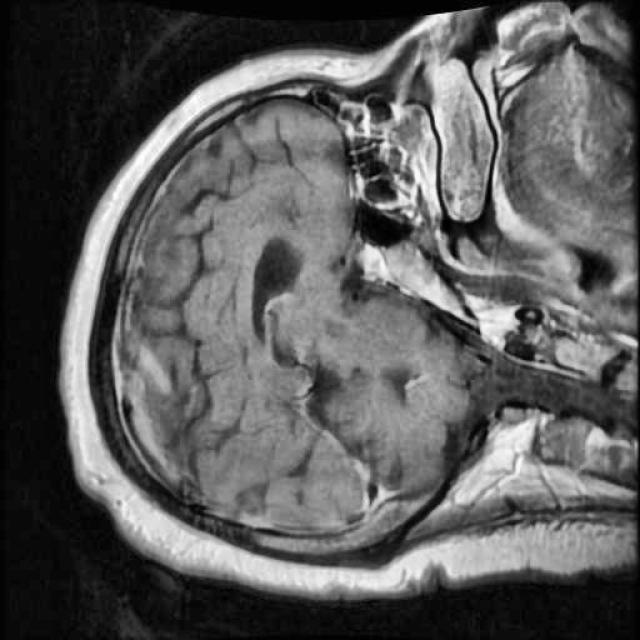Tumor: (339, 228, 419, 304)
